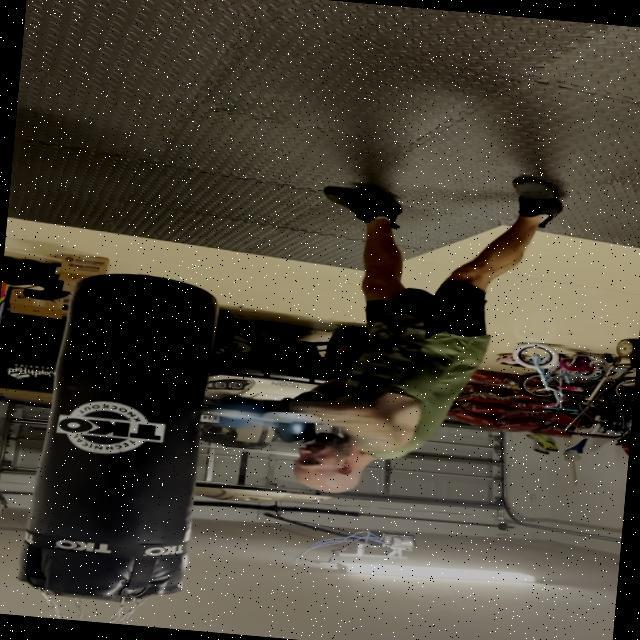bag: (25, 250, 218, 602)
cross: (170, 374, 458, 516)
